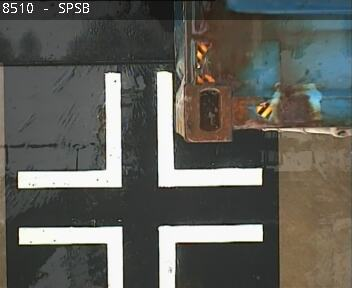groundmarker_1: (18, 71, 261, 190), (18, 224, 263, 288)
